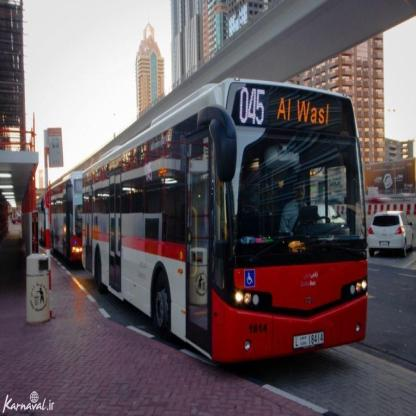Bus: (84, 78, 370, 377), (31, 167, 85, 268)
Car: (364, 209, 416, 261)
